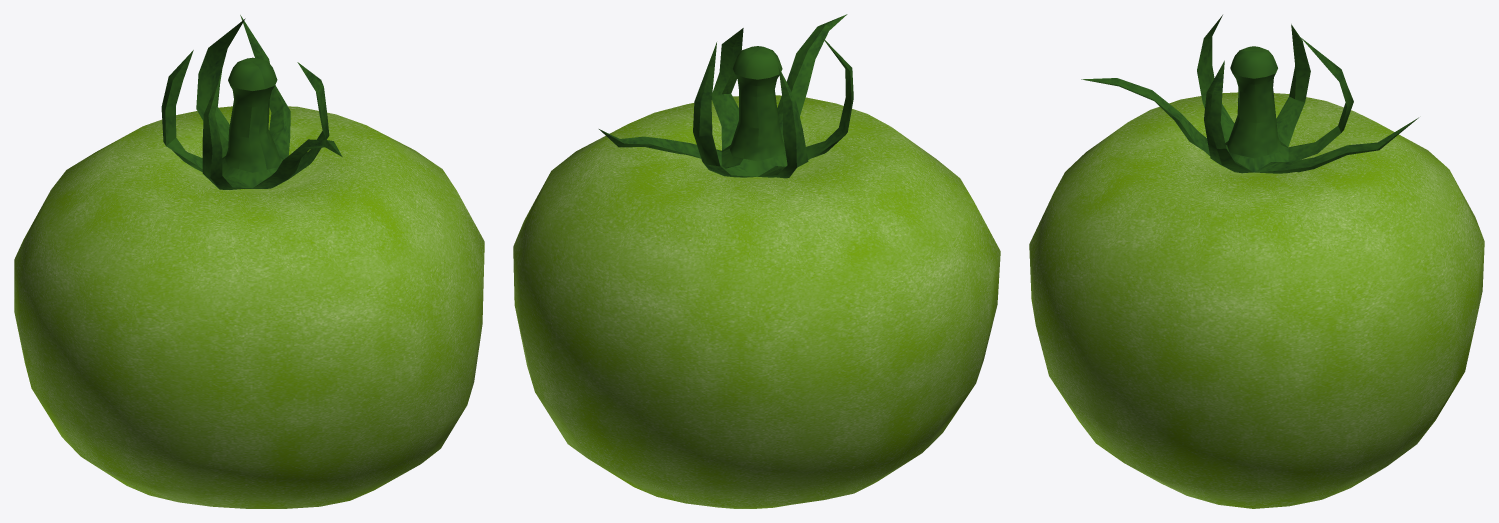
File: tomato14.fbx
The picture shows the model from 3 angles, left to right: view 1: azimuth 30°, elevation 25°; view 2: azimuth 150°, elevation 25°; view 3: azimuth 270°, elevation 25°; orthographic projection. The views are drawn at different scales.
Parts seen in each view (by area): view 1: Tomato14; view 2: Tomato14; view 3: Tomato14.
Part boxes in pixels (bbox=[...]): Tomato14: bbox=[14, 15, 484, 508]; Tomato14: bbox=[513, 14, 1000, 508]; Tomato14: bbox=[1029, 15, 1484, 508].
Bounding box in the file's own units: 6.6 × 6.92 × 6.42.
1 material, 1 textured.
